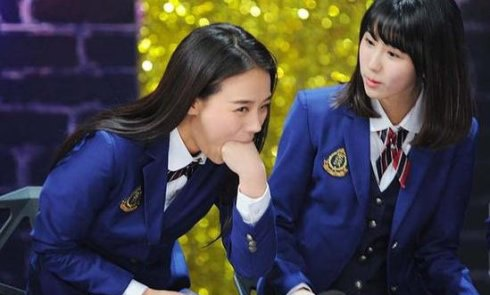face: (200, 72, 272, 166), (358, 22, 421, 97)
